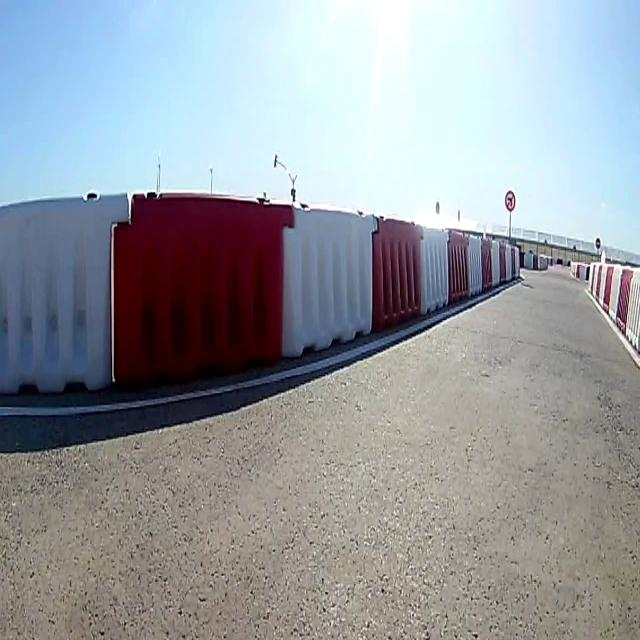soladonulmez: (504, 188, 514, 212)
